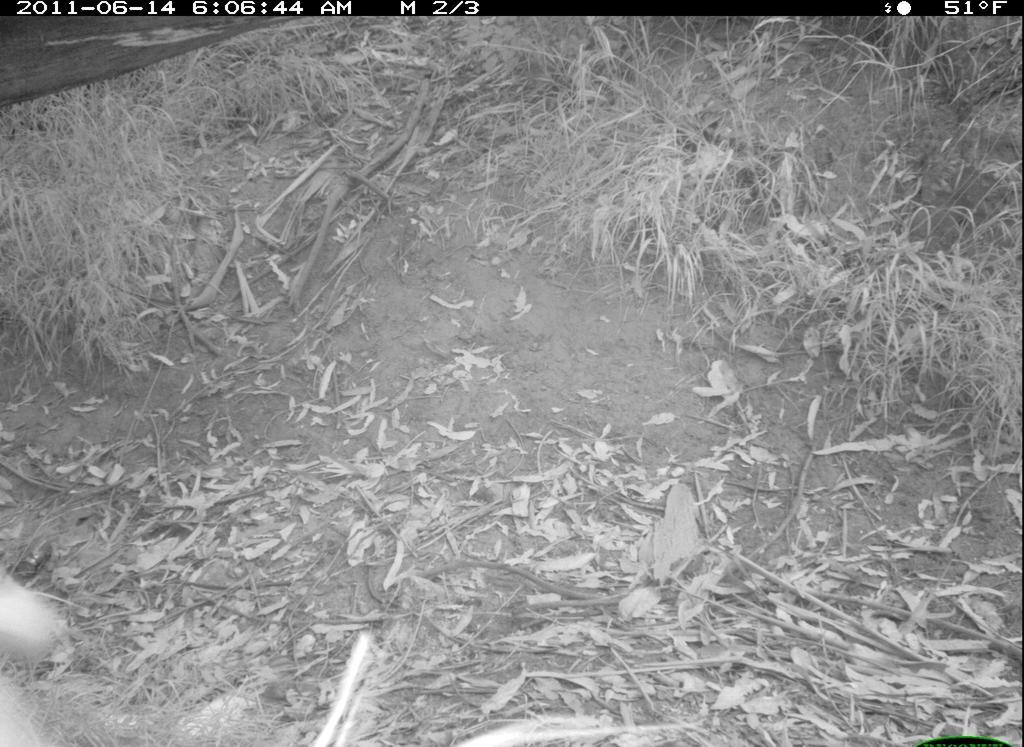dog: (3, 566, 86, 745)
